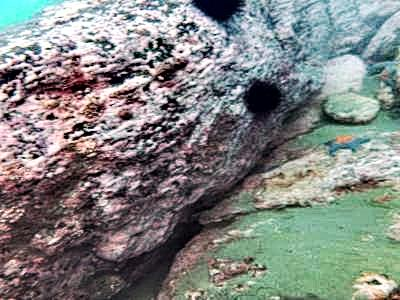urchin: (242, 76, 282, 117), (191, 1, 244, 24)
